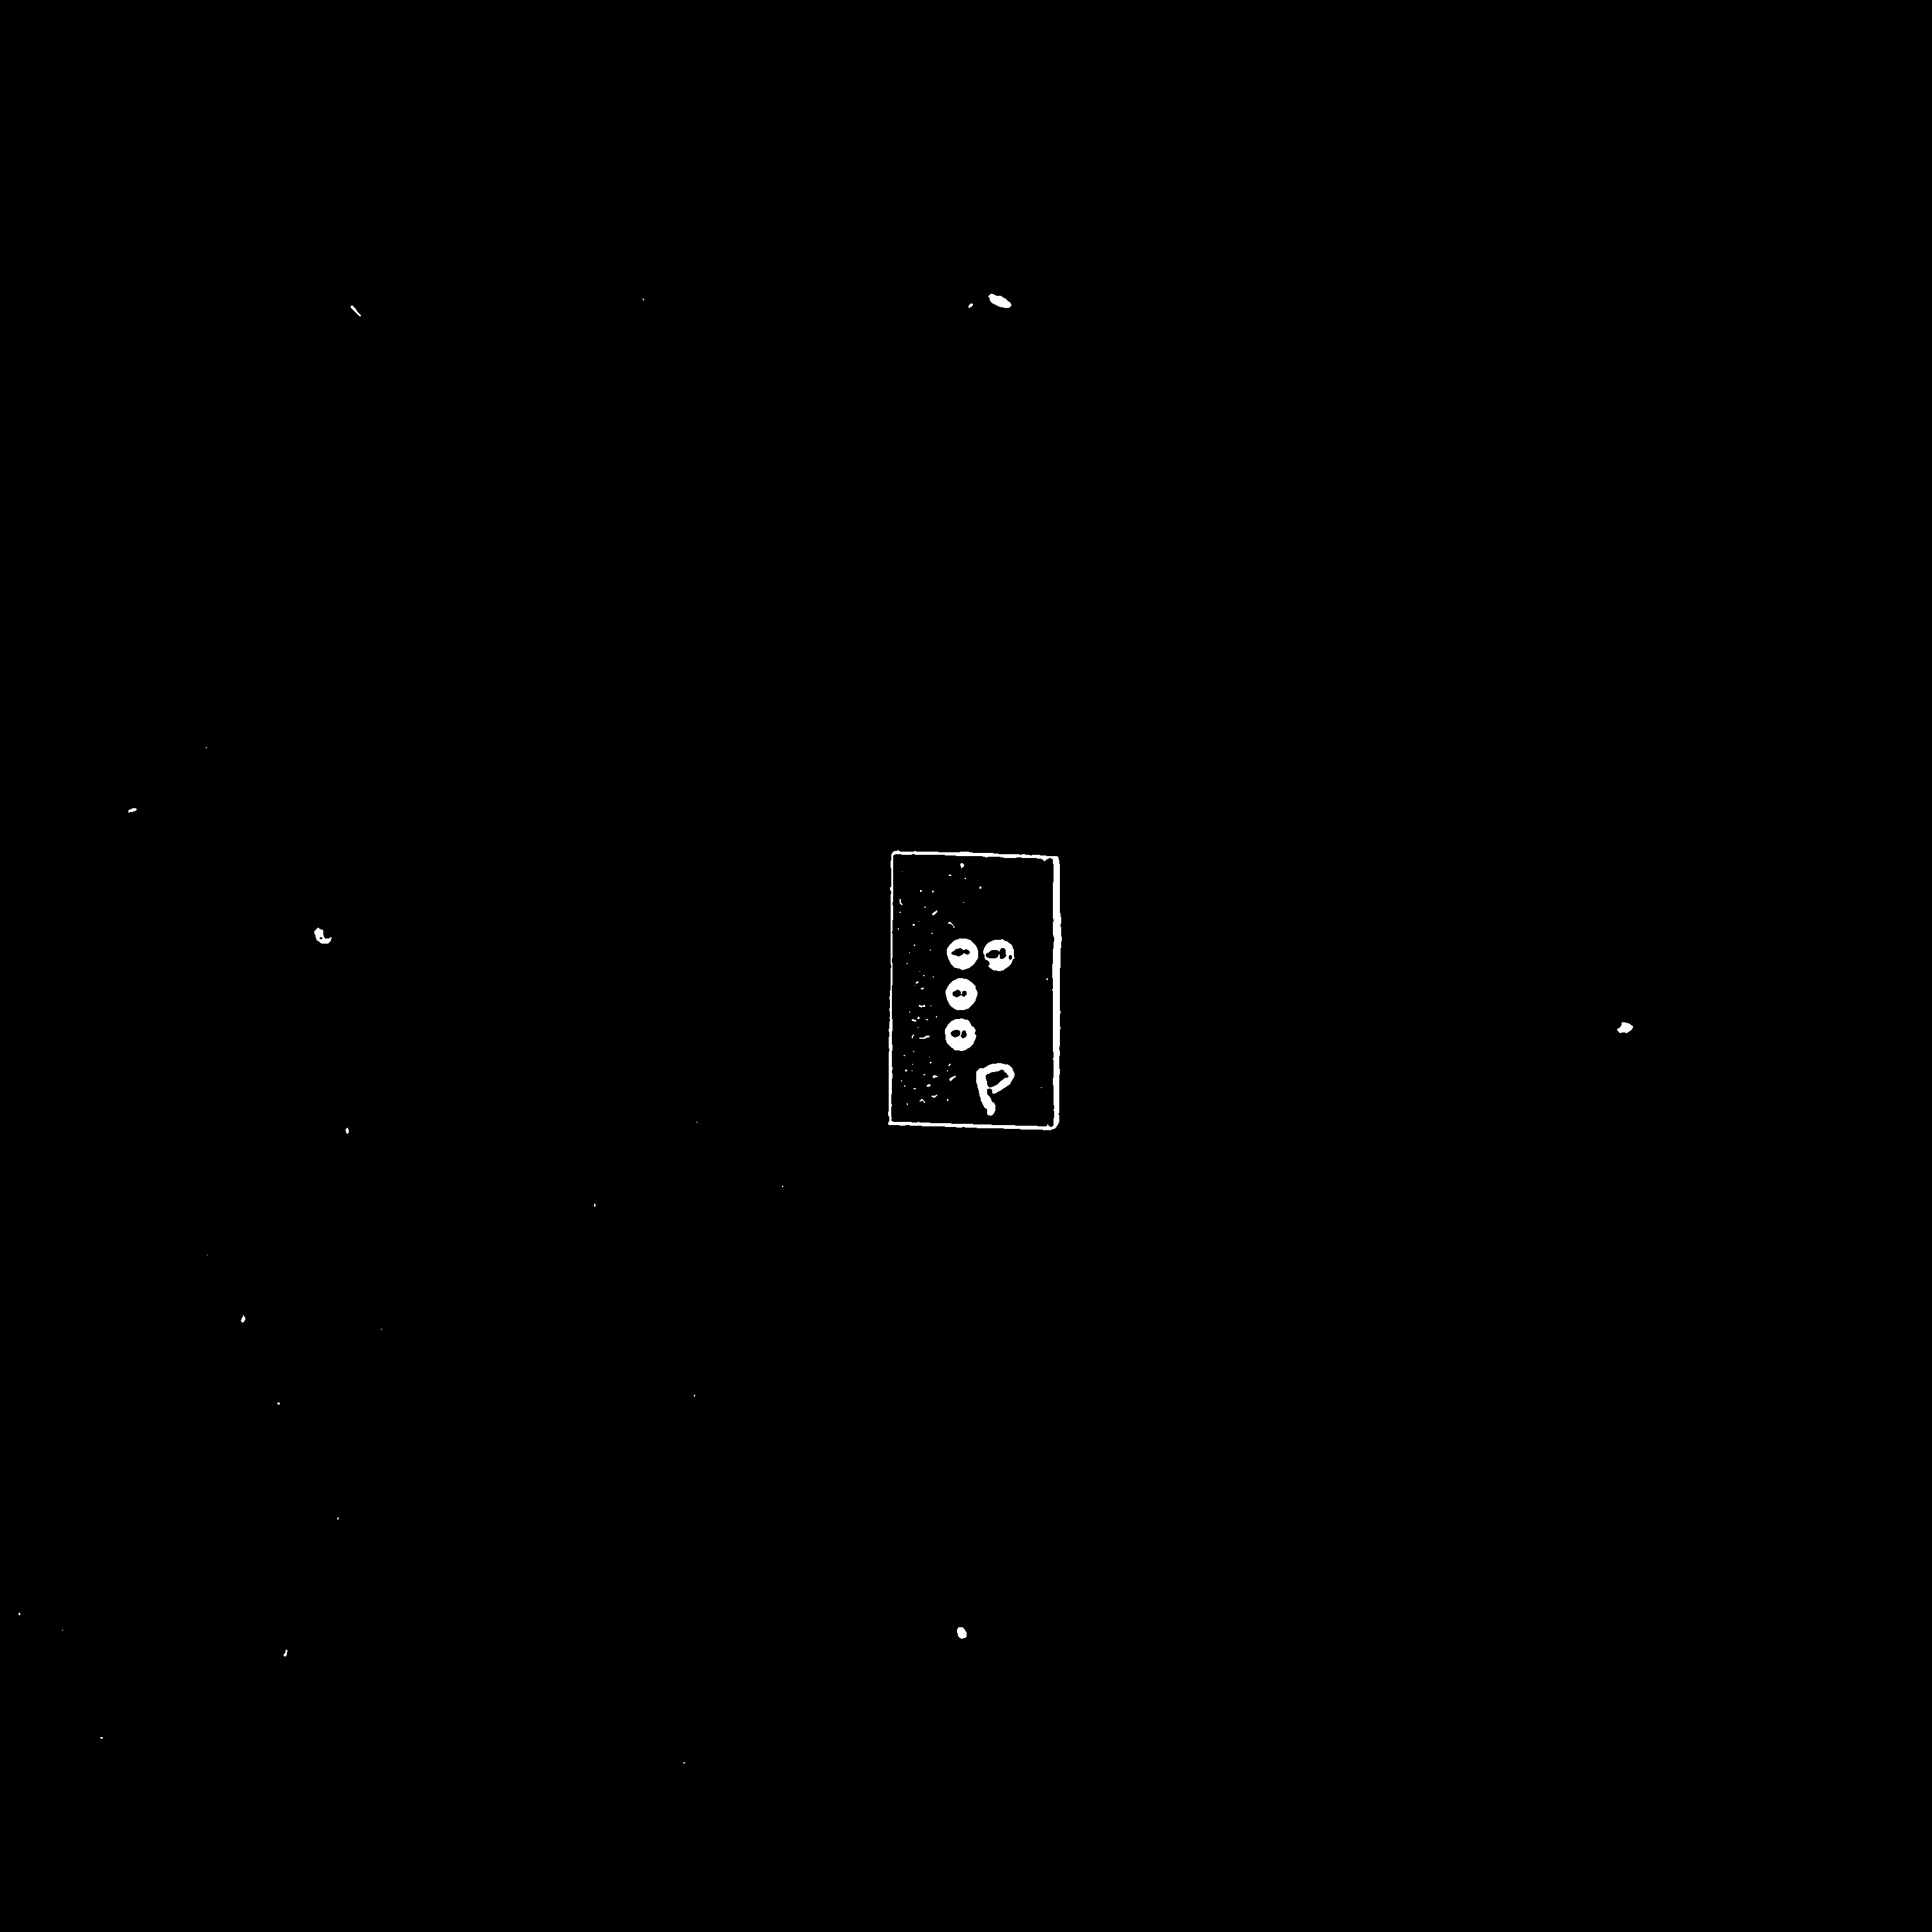p: (928, 921, 1034, 1061)
